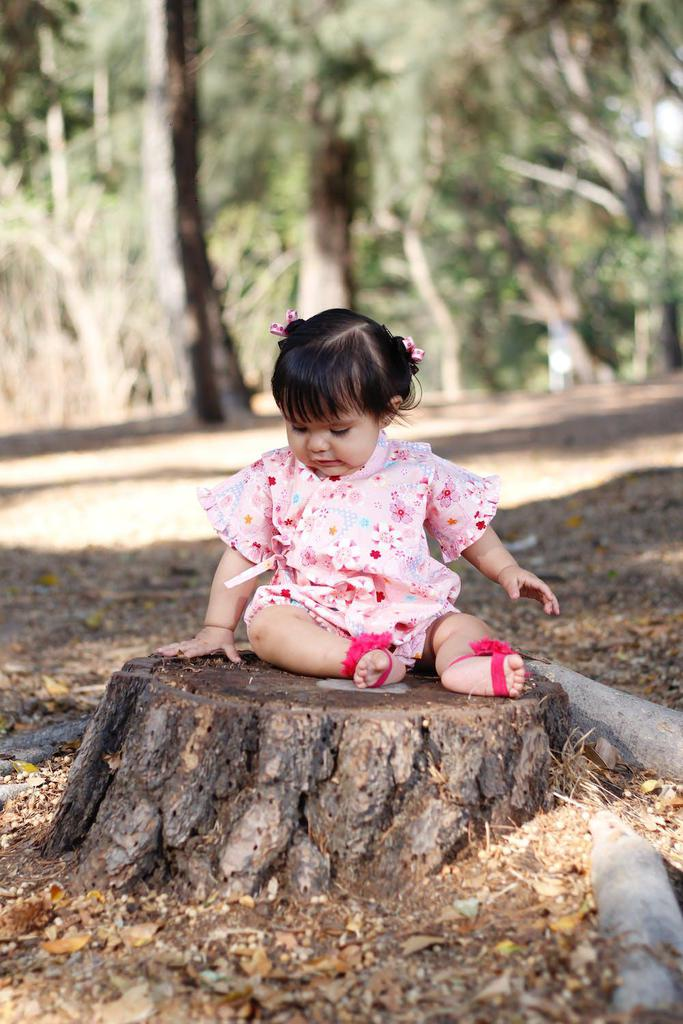child: (170, 294, 568, 712)
